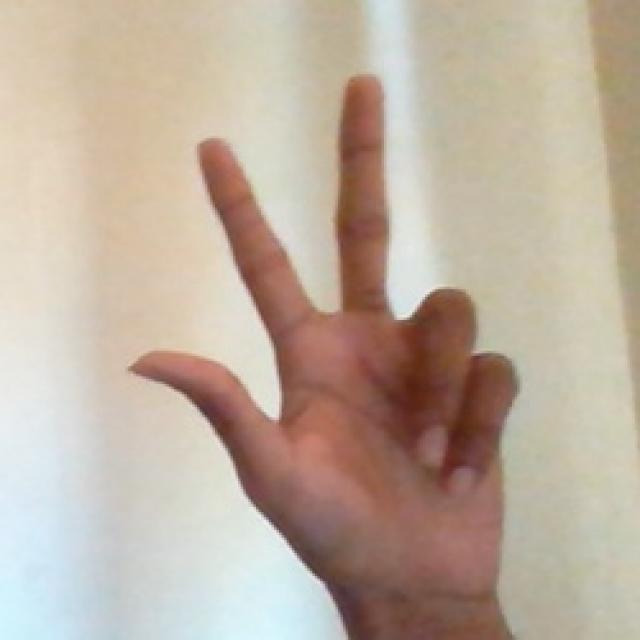Numeric-3: (122, 71, 510, 594)
